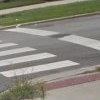crosswalk: (0, 42, 80, 77)
